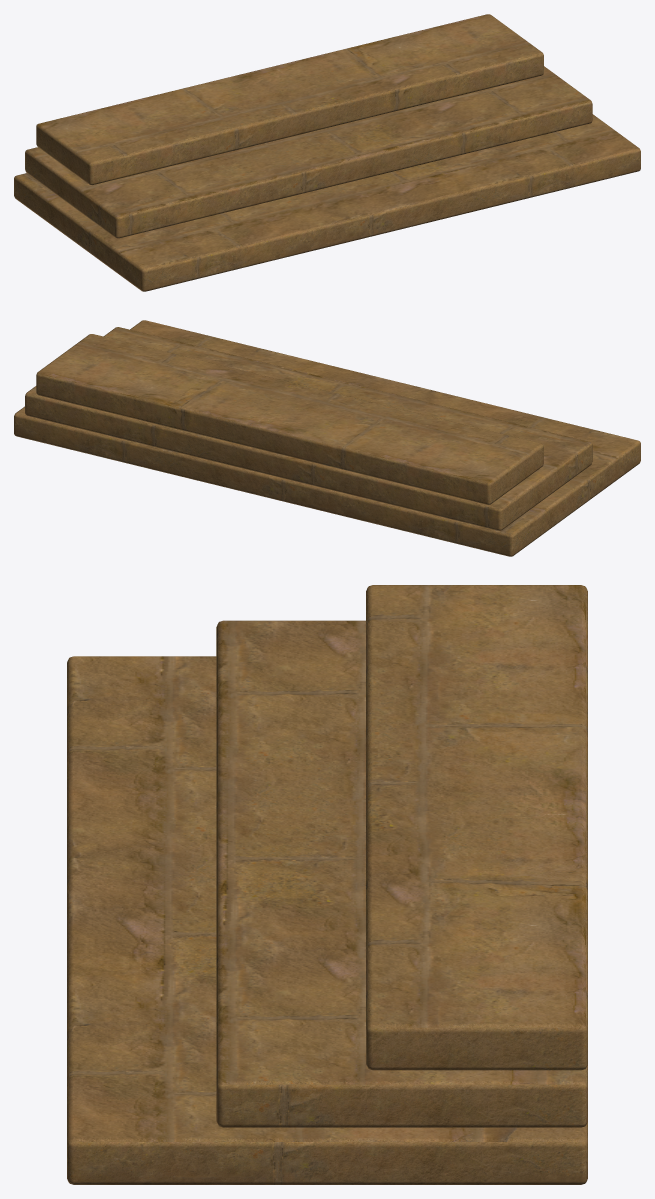
The model's file is entry_steps.glb.
3 views of the same model, one above another, from view 1: azimuth 30°, elevation 25°; view 2: azimuth 150°, elevation 25°; view 3: azimuth 270°, elevation 25° (orthographic). The views are drawn at different scales.
Visible parts, largest first — view 1: LimestoneSurface; view 2: LimestoneSurface; view 3: LimestoneSurface.
Part boxes in pixels (<box>): LimestoneSurface: <box>14,14,640,291</box>; LimestoneSurface: <box>14,320,640,556</box>; LimestoneSurface: <box>67,585,587,1184</box>.
Bounding box in the file's own units: 2.7 × 0.36 × 1.22.
Materials: 1 (1 with a texture image).
